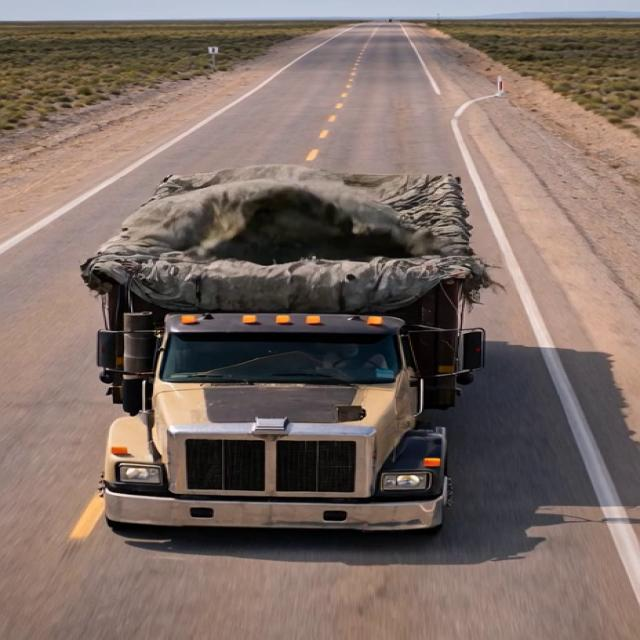trailer: (73, 147, 489, 305)
truck: (41, 111, 524, 541)
